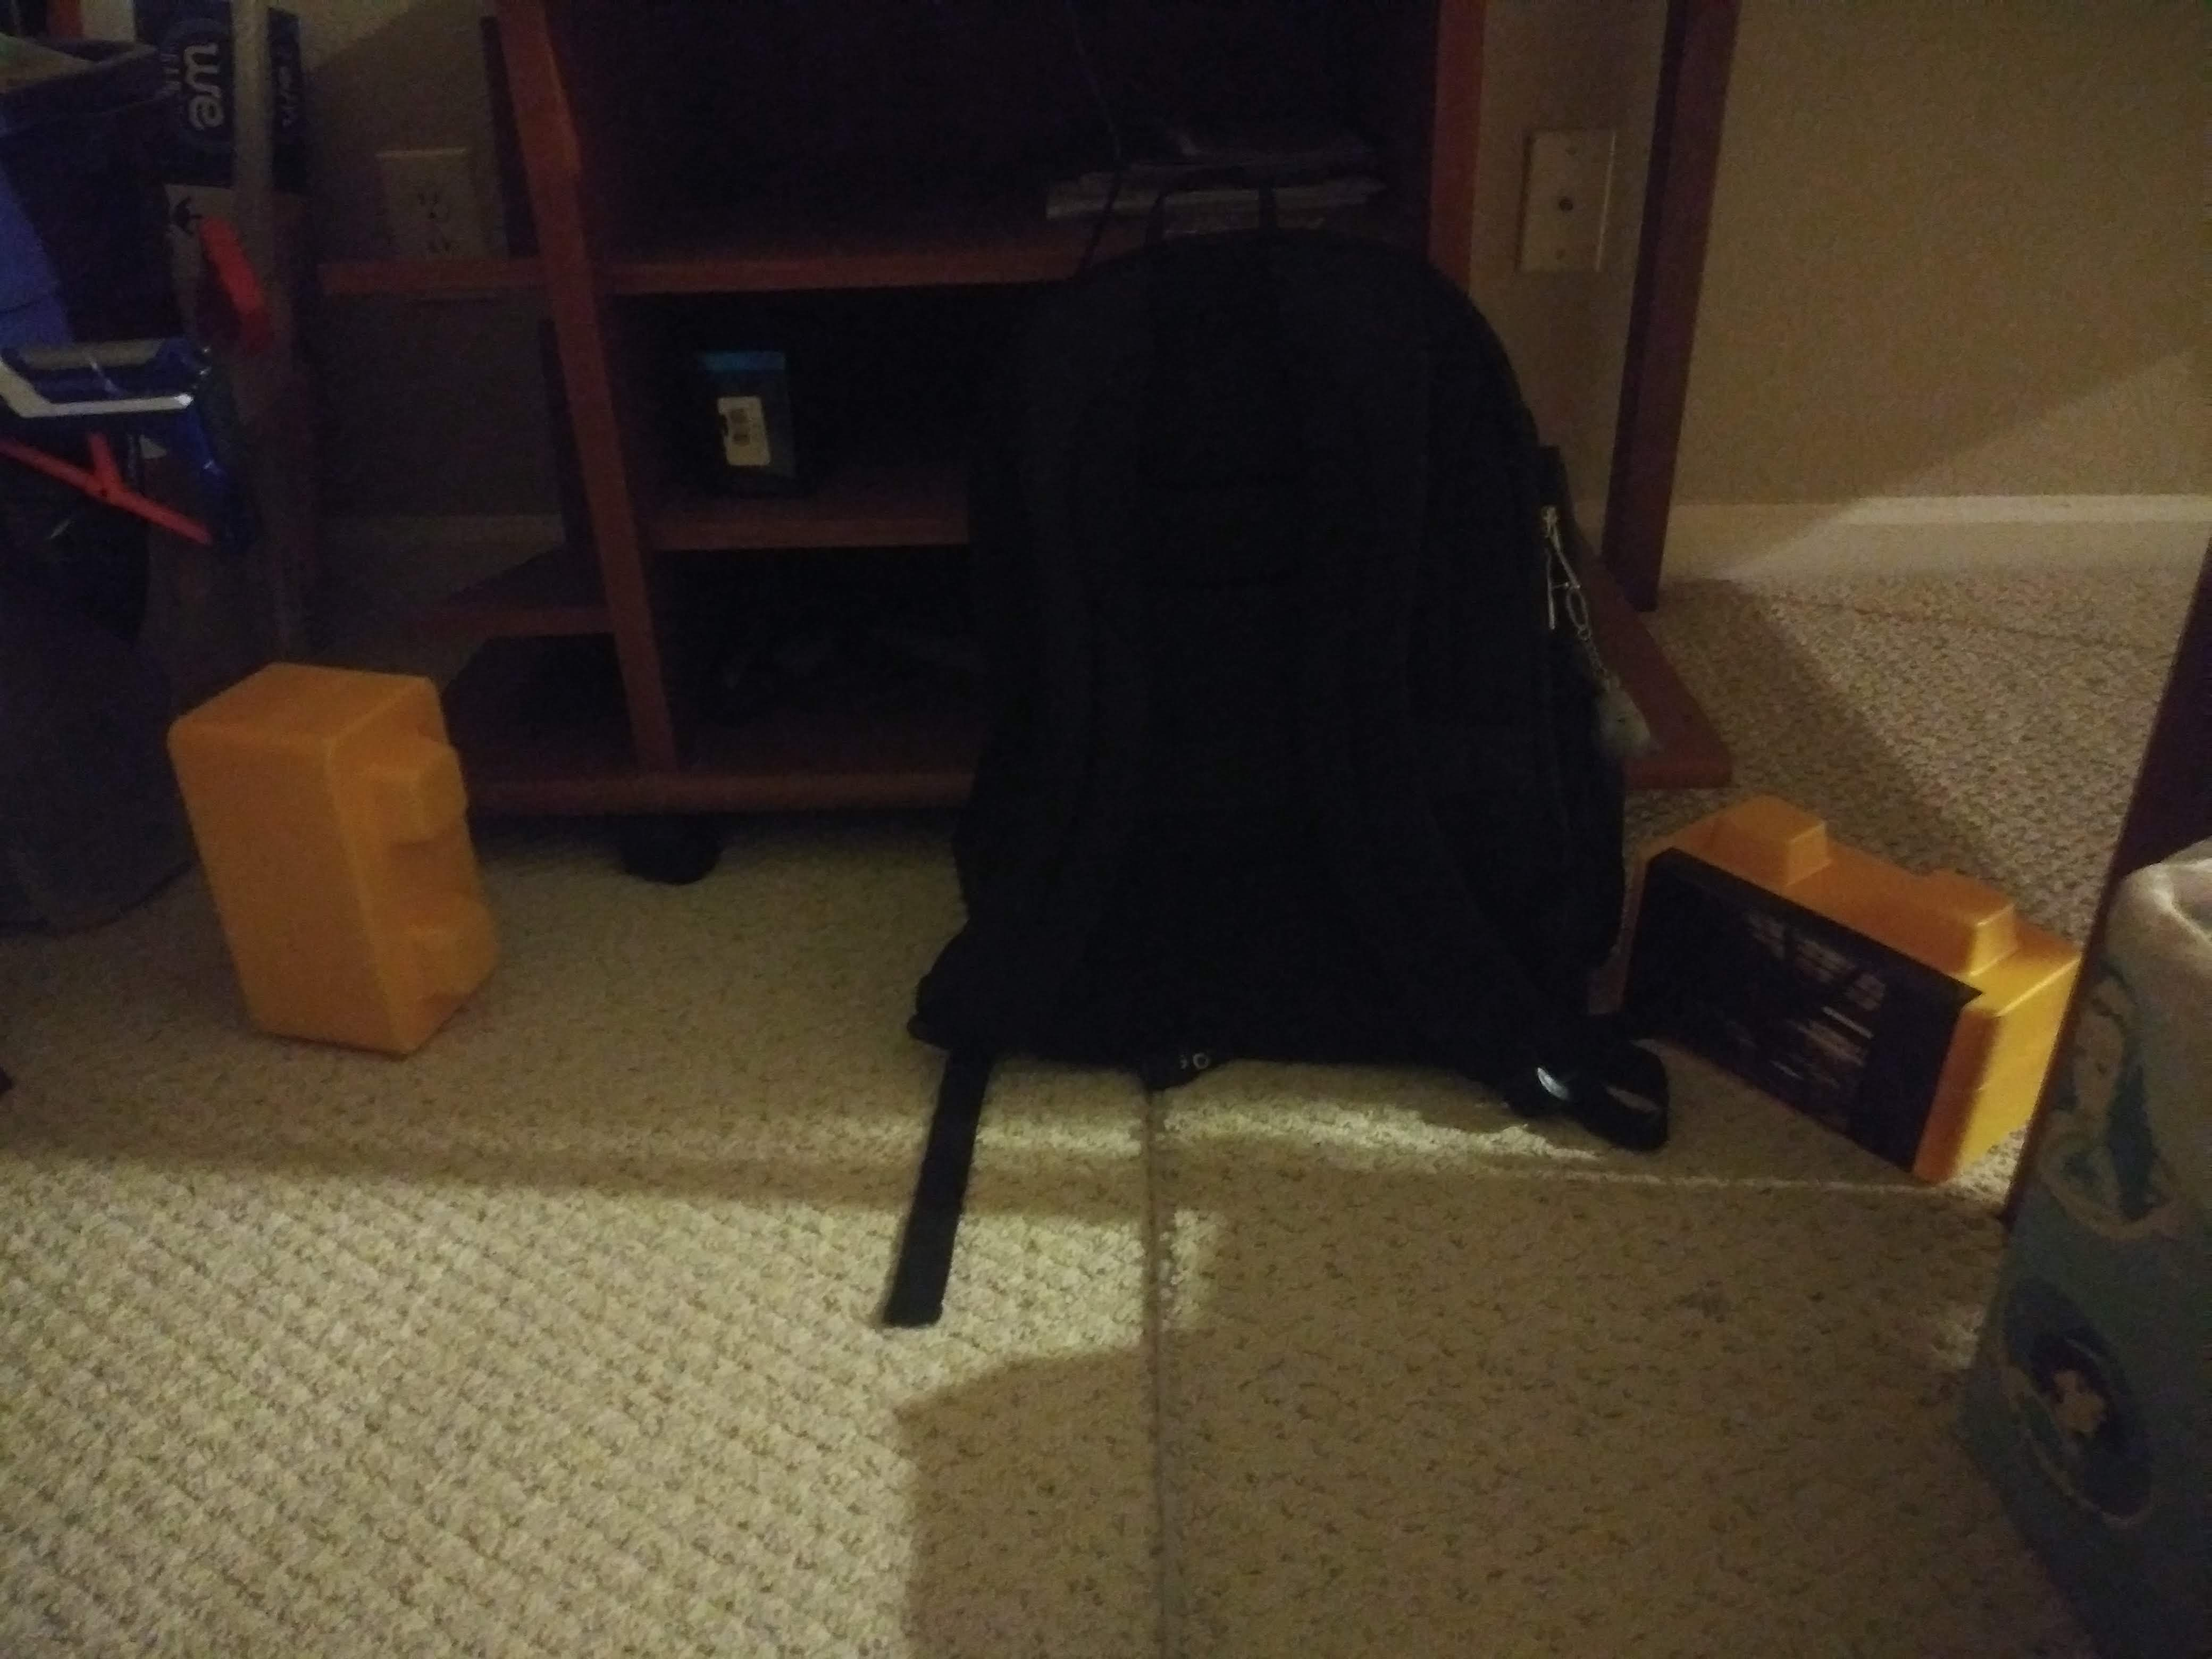skystone: (1644, 824, 2027, 1171)
stone: (185, 680, 489, 1058)
